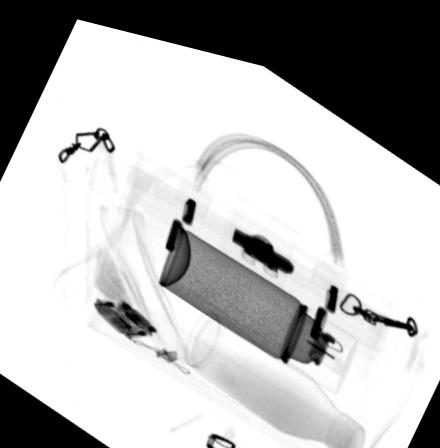Sprayer: (156, 214, 359, 377)
